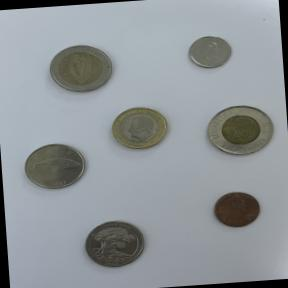1 Euro-B: (102, 97, 174, 156)
2 Euro-B: (39, 36, 122, 102)
Canada-10cent-B: (179, 28, 239, 75)
Canada-2Dollar-B: (194, 96, 282, 164)
Croatia-2Kune-B: (19, 136, 92, 195)
US-1cent-B: (206, 183, 268, 233)
US-25cent-B: (75, 214, 152, 273)
